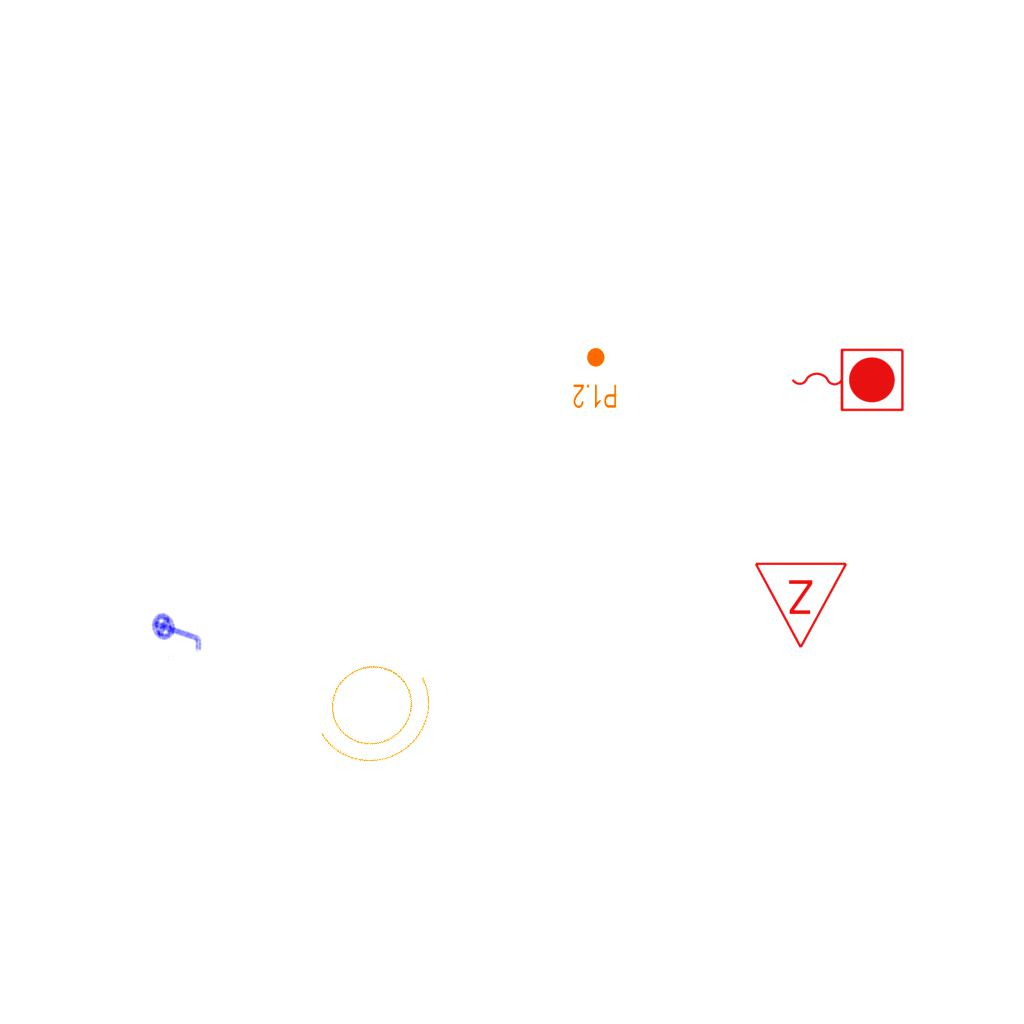Ausschalter_beleuchtet: (148, 599, 208, 665)
Downlight_LED_Einbauleuchten_Flur: (572, 346, 618, 410)
Scheinwerfer_fuer_Alarmbeleuchtung: (292, 627, 462, 789)
Zimmersignalleuchte: (753, 555, 851, 655)
Zugtaster: (786, 343, 908, 415)
